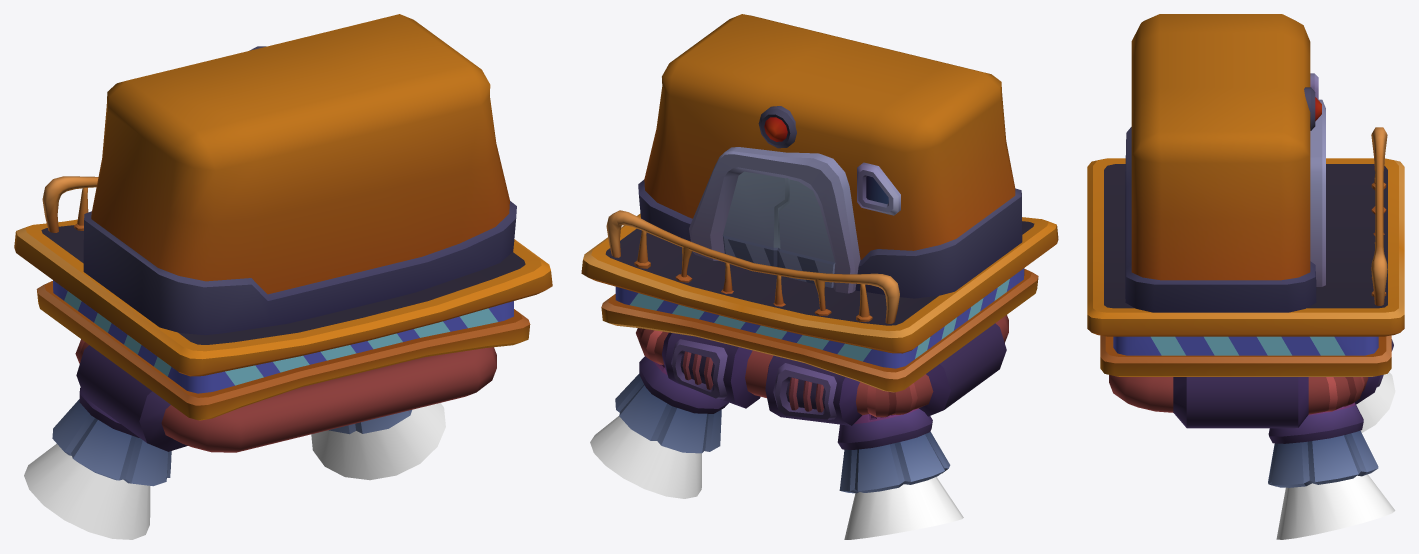
Rendered from SM_Camera_Room_03.fbx.
3 views of the same model, side by side, from view 1: azimuth 30°, elevation 25°; view 2: azimuth 150°, elevation 25°; view 3: azimuth 270°, elevation 25° (orthographic). The views are drawn at different scales.
Parts seen in each view (by area): view 1: SM_Camera_Room_03; view 2: SM_Camera_Room_03; view 3: SM_Camera_Room_03.
Part boxes in pixels (<box>): SM_Camera_Room_03: <box>14,14,552,539</box>; SM_Camera_Room_03: <box>581,14,1058,539</box>; SM_Camera_Room_03: <box>1087,14,1404,539</box>.
Bounding box in the file's own units: 8.92 × 9.84 × 6.87.
